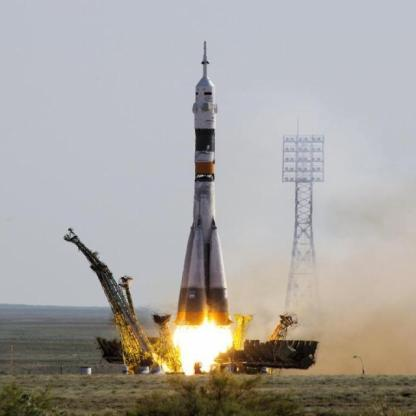MIL_TBM: (190, 73, 220, 226)
